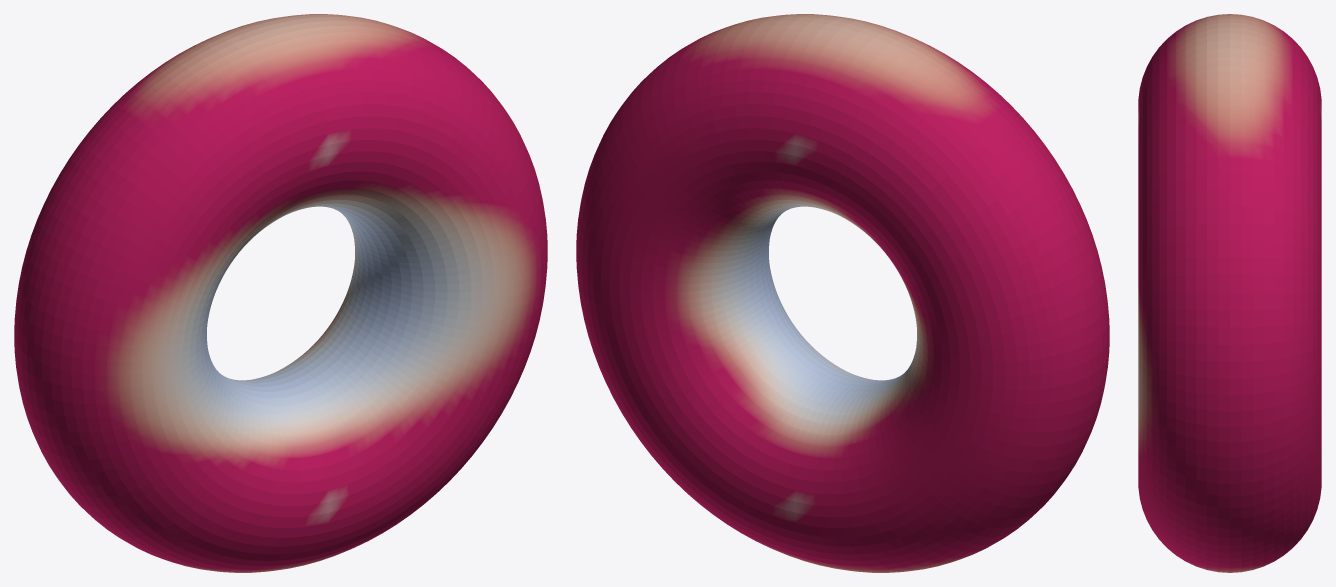
The picture shows the model from 3 angles, left to right: view 1: azimuth 30°, elevation 25°; view 2: azimuth 150°, elevation 25°; view 3: azimuth 270°, elevation 25°; orthographic projection. The views are drawn at different scales.
Parts seen in each view (by area): view 1: world; view 2: world; view 3: world.
Boxes of the visible parts, x1,y1,x2,y2 form: world: [14, 14, 547, 572]; world: [576, 14, 1109, 572]; world: [1138, 14, 1321, 572].
Bounding box in the file's own units: 28.8 × 28.8 × 9.45.
